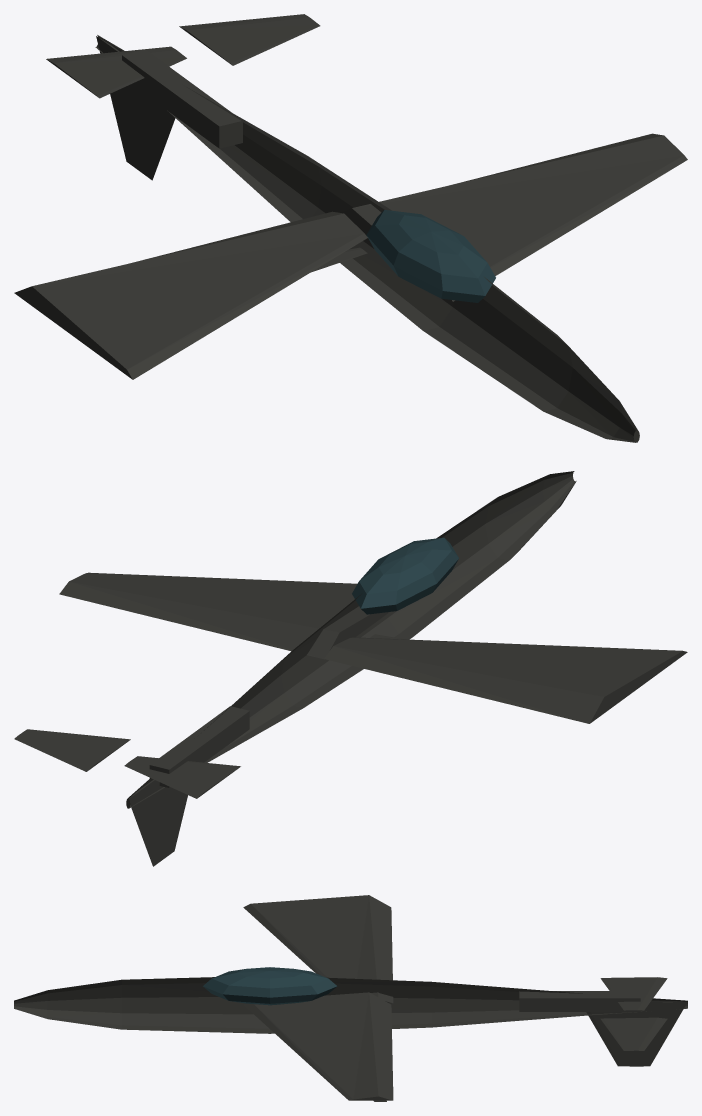
The model's file is su24_Destroyed.glb.
3 views of the same model, one above another, from view 1: azimuth 30°, elevation 25°; view 2: azimuth 150°, elevation 25°; view 3: azimuth 270°, elevation 25° (orthographic). The views are drawn at different scales.
Parts seen in each view (by area): view 1: Fuselage, Wing_L, Wing_R, Cockpit, TailBoom, Rudder, Elevator_R, Elevator_L; view 2: Wing_L, Fuselage, Wing_R, Cockpit, Rudder, TailBoom, Elevator_R, Elevator_L; view 3: Fuselage, Wing_R, Wing_L, Cockpit, Rudder, TailBoom, Elevator_R, Elevator_L.
Part boxes in pixels (x1,y1,x2,y2): Fuselage: [95, 35, 639, 442]; Wing_L: [14, 211, 367, 379]; Wing_R: [340, 133, 687, 301]; Cockpit: [366, 210, 495, 302]; TailBoom: [122, 49, 242, 148]; Rudder: [96, 36, 175, 180]; Elevator_R: [179, 14, 320, 65]; Elevator_L: [46, 46, 186, 98]; Wing_L: [324, 637, 687, 723]; Fuselage: [126, 471, 576, 808]; Wing_R: [59, 572, 389, 659]; Cockpit: [352, 537, 458, 614]; Rudder: [129, 779, 187, 866]; TailBoom: [149, 706, 249, 787]; Elevator_R: [14, 729, 130, 771]; Elevator_L: [124, 756, 240, 798]; Fuselage: [14, 977, 687, 1033]; Wing_R: [243, 992, 393, 1100]; Wing_L: [243, 895, 393, 1003]; Cockpit: [203, 967, 337, 1005]; Rudder: [586, 1001, 687, 1066]; TailBoom: [519, 991, 640, 1011]; Elevator_R: [600, 1017, 667, 1050]; Elevator_L: [600, 977, 667, 1010].
Bounding box in the file's own units: 16.8 × 3.84 × 24.59.
